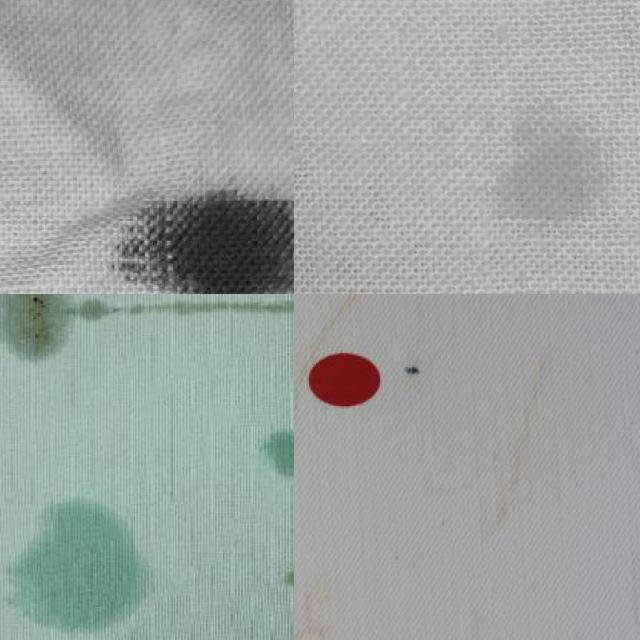Thread_other: (79, 112, 294, 294), (0, 294, 294, 395), (474, 84, 632, 250), (0, 481, 163, 640), (244, 417, 294, 640), (382, 330, 472, 438)
